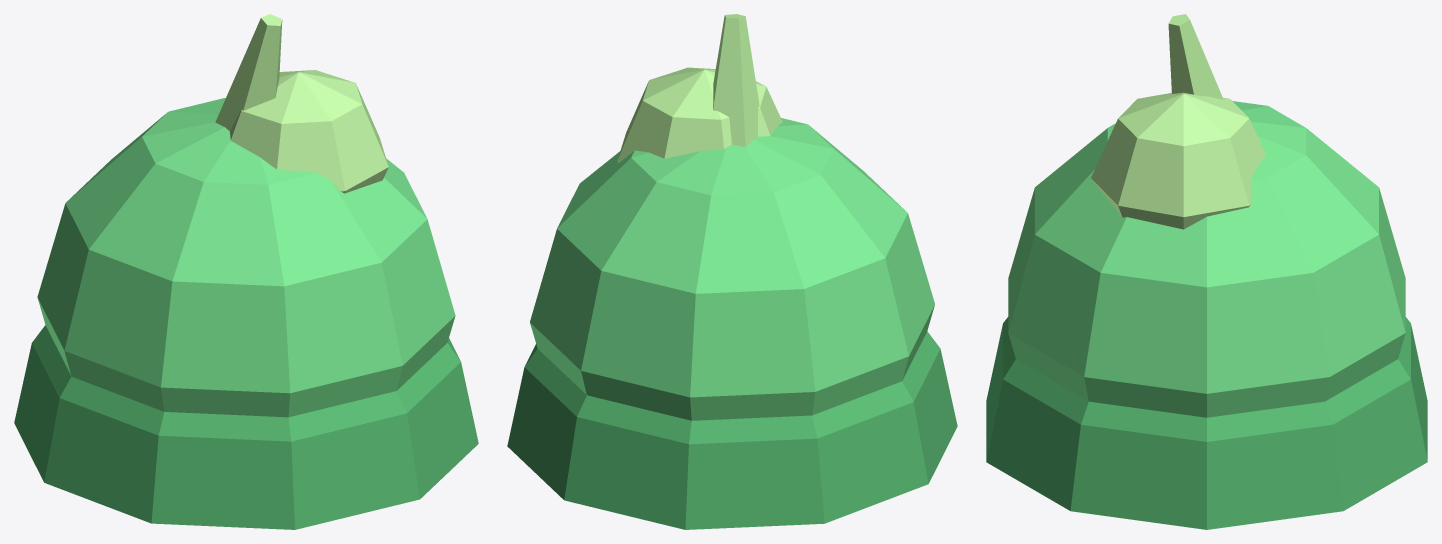
The model's file is biovine_item_flat.glb.
3 views of the same model, side by side, from view 1: azimuth 30°, elevation 25°; view 2: azimuth 150°, elevation 25°; view 3: azimuth 270°, elevation 25° (orthographic). The views are drawn at different scales.
Visible parts, largest first — view 1: SeedBody, SeedBase, SeedBump, Sprout; view 2: SeedBody, SeedBase, SeedBump, Sprout; view 3: SeedBody, SeedBase, SeedBump, Sprout.
Part boxes in pixels (x1,y1,x2,y2): SeedBody: (37,98,455,417); SeedBase: (14,325,478,529); SeedBump: (230,70,388,193); Sprout: (215,14,282,131); SeedBody: (530,118,934,420); SeedBase: (507,331,957,529); SeedBump: (617,67,782,163); Sprout: (713,14,759,147); SeedBody: (1008,101,1405,417); SeedBase: (986,317,1427,529); SeedBump: (1091,92,1265,229); Sprout: (1168,14,1223,99).
Size of the model in its own units: 0.05 by 0.0574 by 0.0476.
